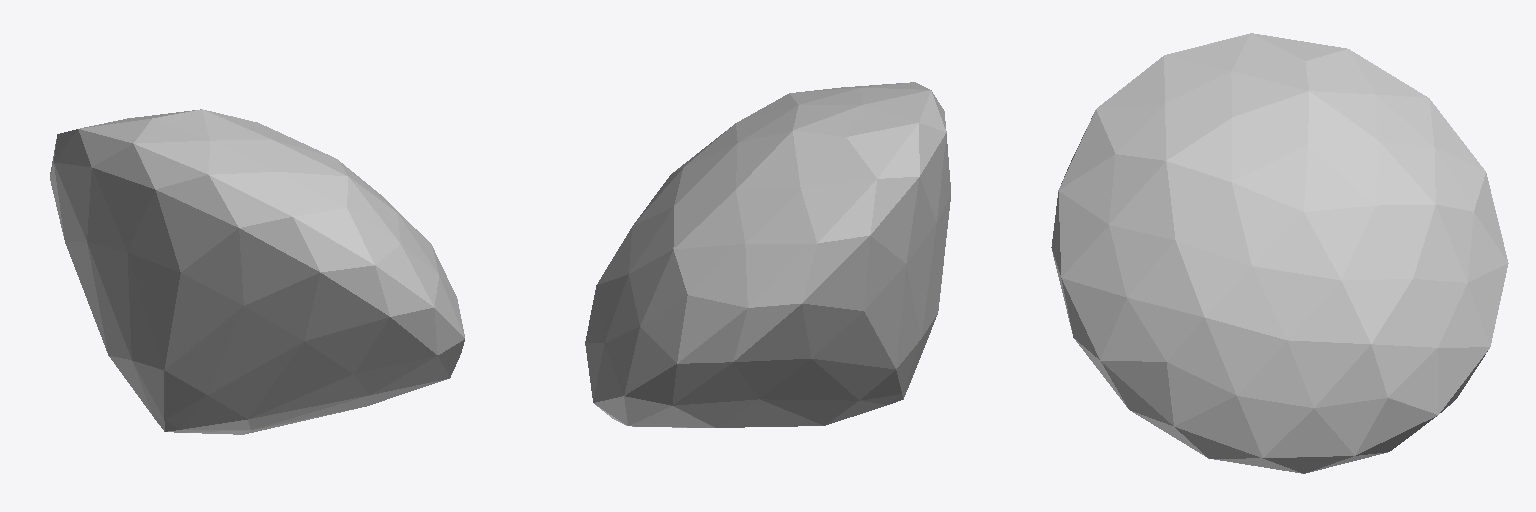
Rendered from stone2.obj.
3 renders of one model, left to right at view 1: azimuth 30°, elevation 25°; view 2: azimuth 150°, elevation 25°; view 3: azimuth 270°, elevation 25°, orthographic.
Visible parts, largest first — view 1: GeoSphere02; view 2: GeoSphere02; view 3: GeoSphere02.
Part boxes in pixels (x1,y1,x2,y2): GeoSphere02: (50, 109, 464, 434); GeoSphere02: (585, 82, 950, 427); GeoSphere02: (1051, 33, 1508, 473).
Bounding box in the file's own units: 1.56 × 1.48 × 1.96.